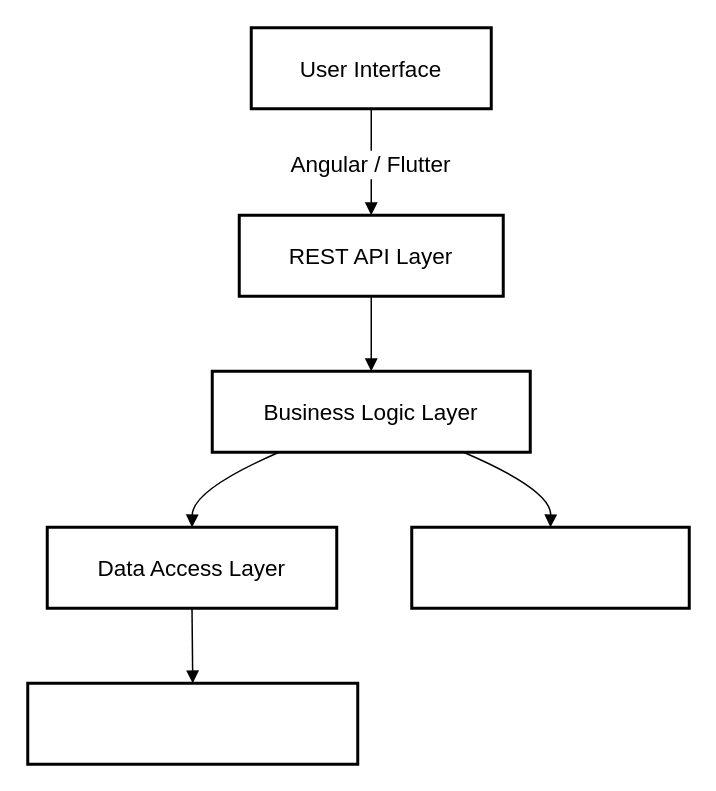
Image size: 716x791. Some labels were removed from this diagram. The shapes that lost their labels are listed below. From the top down, each one's centre as x and y in pixels, then its label:
At point 550,567: "External Services".
At point 192,723: "PostgreSQL Database".
